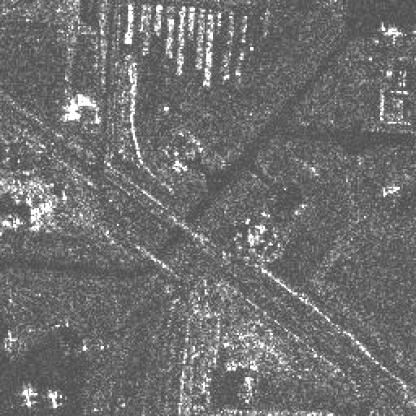airplane: (42, 384, 65, 411), (0, 325, 20, 356), (18, 384, 39, 411)
